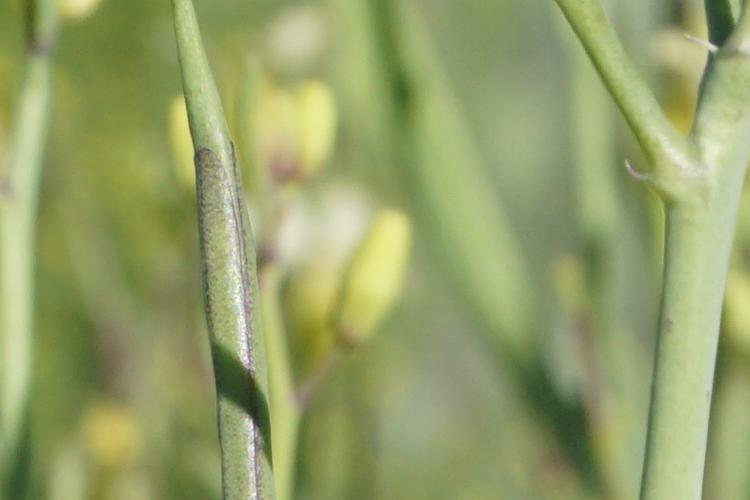pod: (177, 136, 281, 500)
